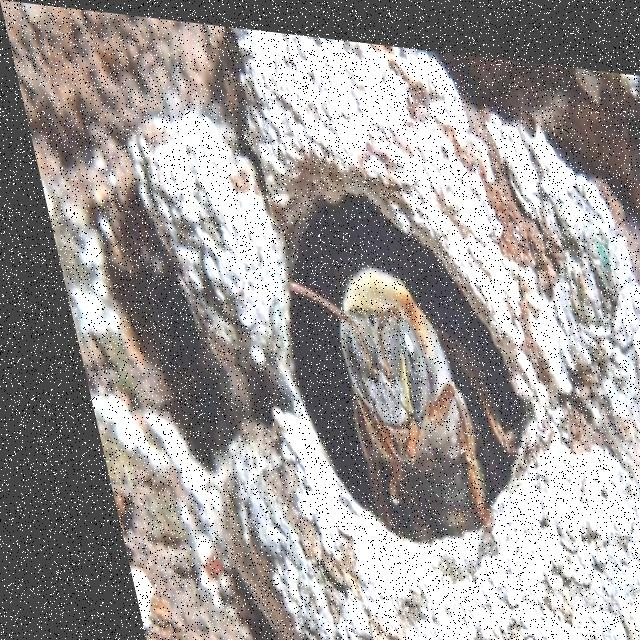Meliponula: (283, 238, 503, 541)
